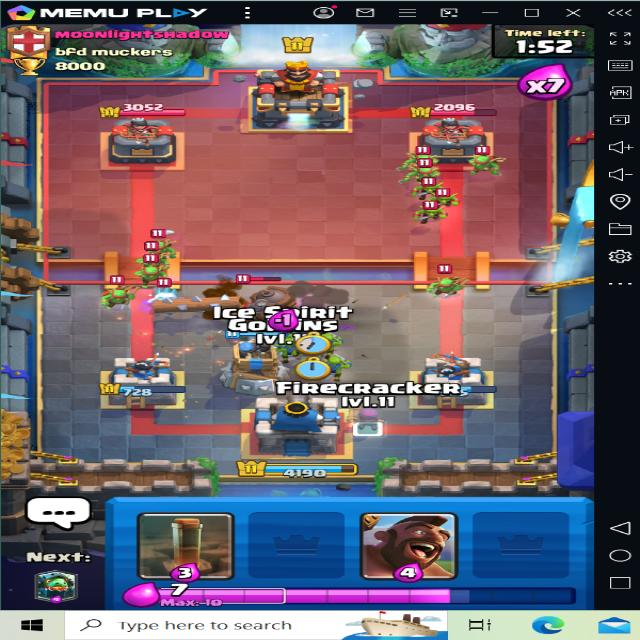goblin: (410, 196, 452, 224), (408, 178, 448, 199)
ice-spirit: (147, 280, 185, 310)
mighty-miner: (221, 264, 306, 336)
spear-goblin: (403, 158, 446, 186), (425, 269, 462, 301), (468, 144, 504, 172), (132, 260, 164, 290), (96, 282, 128, 308), (144, 235, 182, 253), (406, 147, 438, 168)
